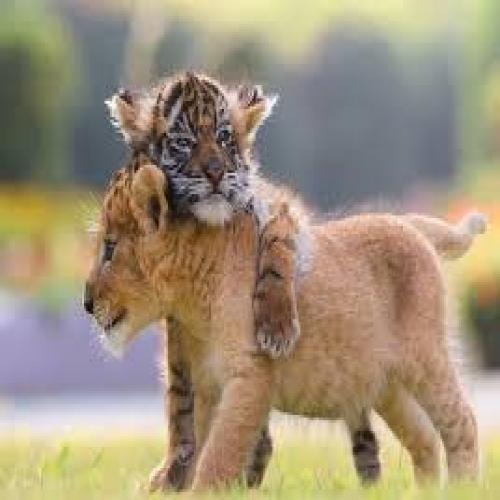lion-endangered: (87, 162, 475, 492)
